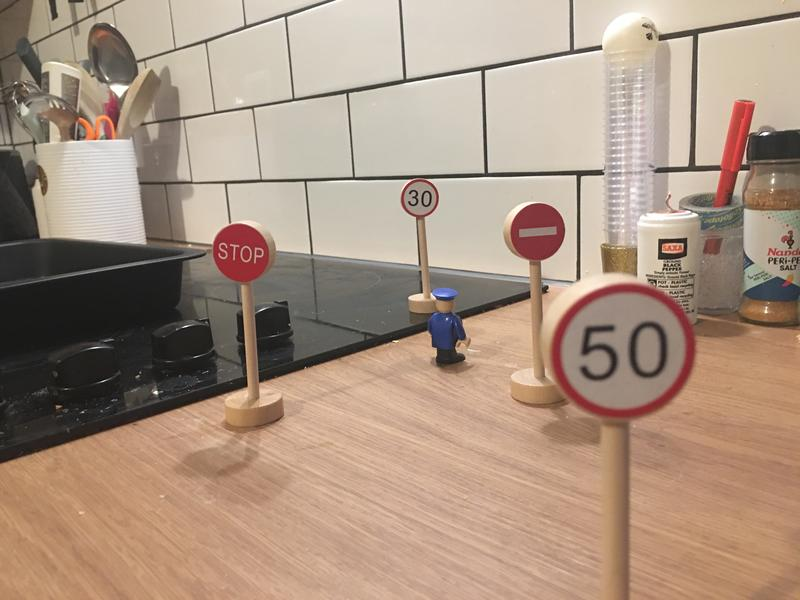Traffic_Sign_30: (401, 179, 440, 216)
Traffic_Sign_50: (551, 284, 697, 420)
Traffic_Sign_No_Entry: (509, 203, 566, 261)
Traffic_Sign_Stop: (212, 222, 271, 282)
person: (424, 285, 477, 369)
